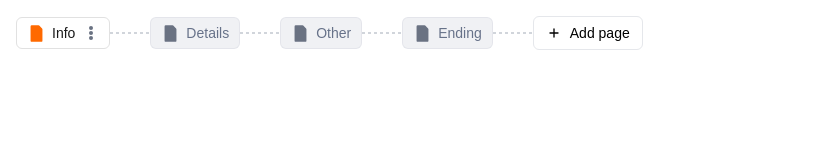
Test: PageNavigationContainer › Edit Mode Integration › should save new page name when editing via hover-added page
Hover over the 5th element with class "items-center".
mouse_move(130, 33)  # box left=110, top=32, right=150, bottom=34
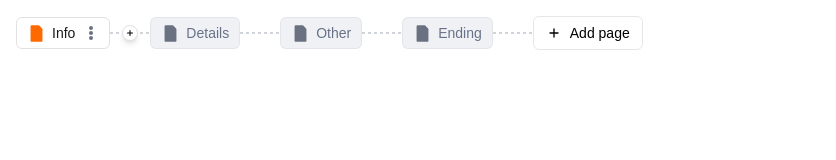
Click the button named "Add page after position 0".
click(130, 33)  # box left=122, top=25, right=138, bottom=41
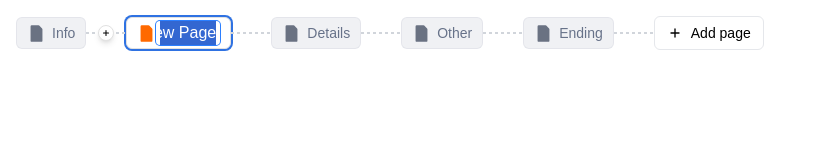
Clear the field showing "New Page" at (188, 33), box left=156, top=21, right=220, bottom=45
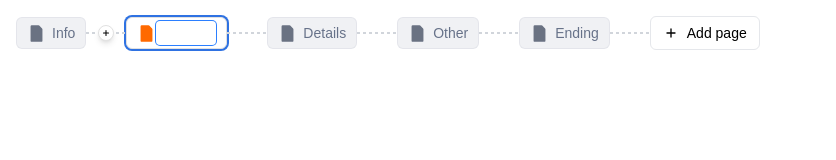
Type "Custom Name" into the field showing "New Page".
click(186, 33); type("Custom Name")  # box left=156, top=21, right=216, bottom=45
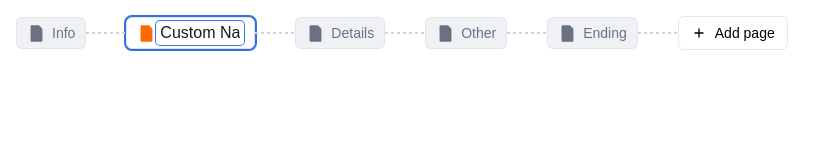
Press Enter
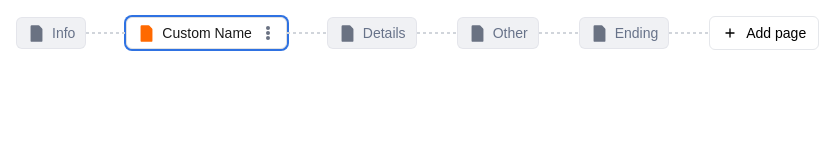
Check: the text "Custom Name" is shown, box left=162, top=23, right=252, bottom=43
